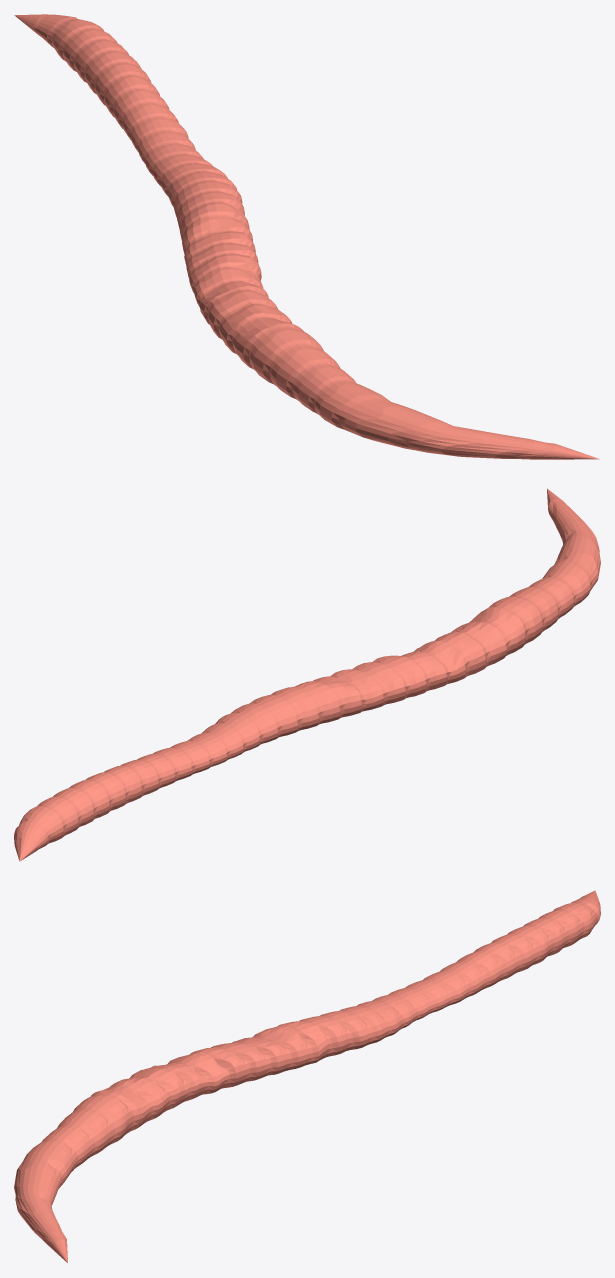
File: Intestine_inside_Tunnel.fbx
The picture shows the model from 3 angles, top to bottom: view 1: azimuth 30°, elevation 25°; view 2: azimuth 150°, elevation 25°; view 3: azimuth 330°, elevation 25°; orthographic projection. The views are drawn at different scales.
Parts seen in each view (by area): view 1: Intestine_inside_Tunnel; view 2: Intestine_inside_Tunnel; view 3: Intestine_inside_Tunnel.
Boxes of the visible parts, left/top/right/bottom form: Intestine_inside_Tunnel: left=14, top=14, right=599, bottom=459; Intestine_inside_Tunnel: left=14, top=488, right=600, bottom=861; Intestine_inside_Tunnel: left=14, top=890, right=600, bottom=1262.
Size of the model in its own units: 90.4 by 16.08 by 419.
